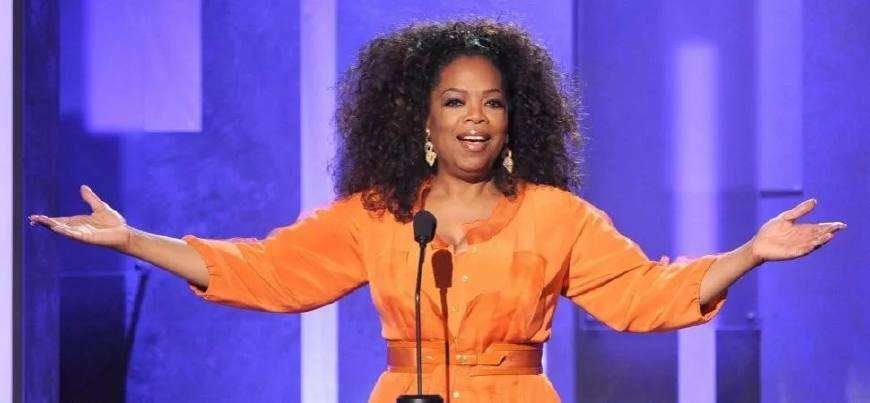no-phone: (25, 181, 130, 251), (750, 195, 850, 264)
